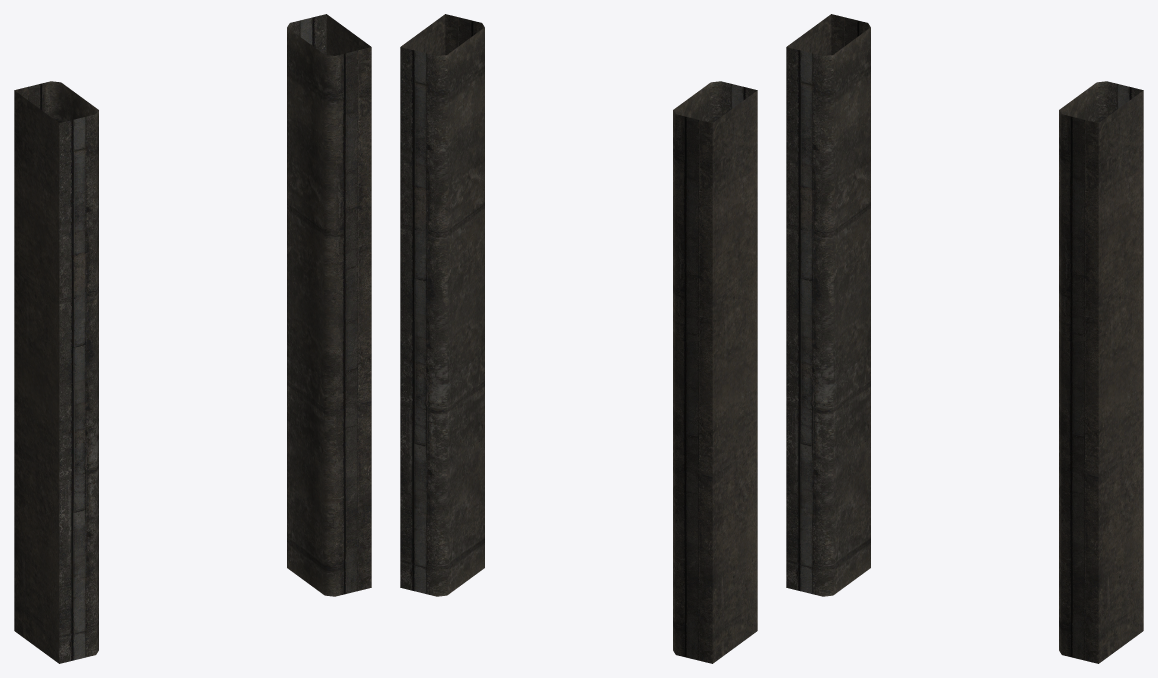
Rendered from tunnel_pillars_narrow.DAE.
3 renders of one model, left to right at view 1: azimuth 30°, elevation 25°; view 2: azimuth 150°, elevation 25°; view 3: azimuth 330°, elevation 25°, orthographic.
Parts seen in each view (by area): view 1: tunnel_pillars_narrow; view 2: tunnel_pillars_narrow; view 3: tunnel_pillars_narrow.
Part boxes in pixels (x1,y1,x2,y2): tunnel_pillars_narrow: (14, 14, 371, 663); tunnel_pillars_narrow: (400, 14, 757, 663); tunnel_pillars_narrow: (786, 14, 1143, 663).
Size of the model in its own units: 2.42 by 0.605 by 4.
